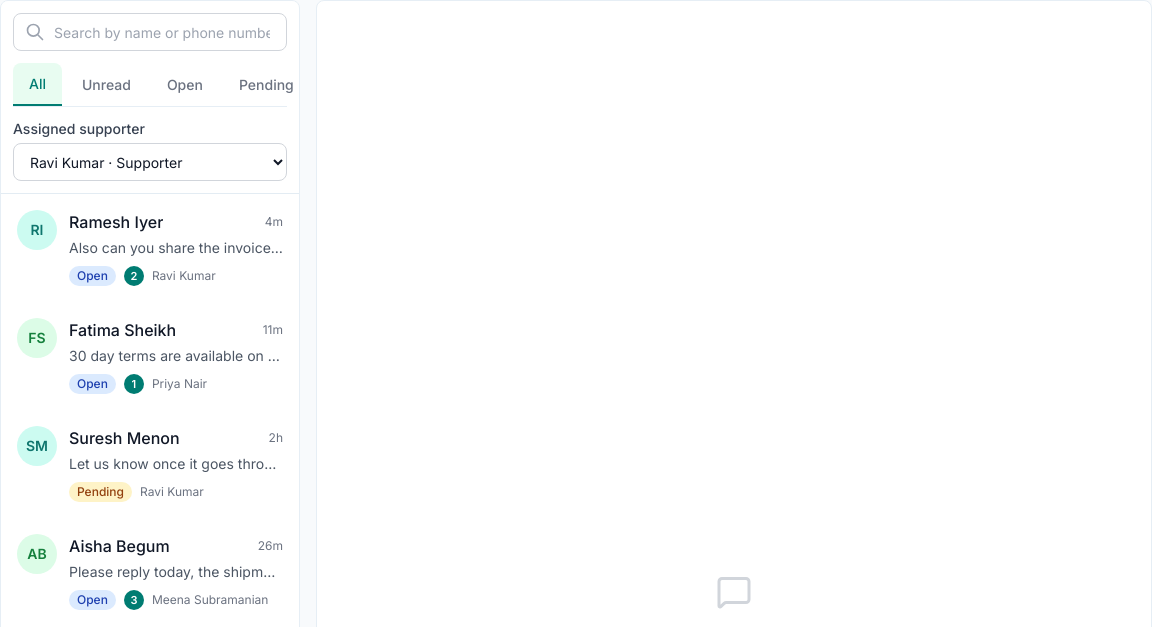
Scenario: ChatWorkspace › filters the list by customer name
Step 1. Type "Fatima" into the field with placeholder "Search by name or phone number..." → [150, 32], box [13,13,287,51]
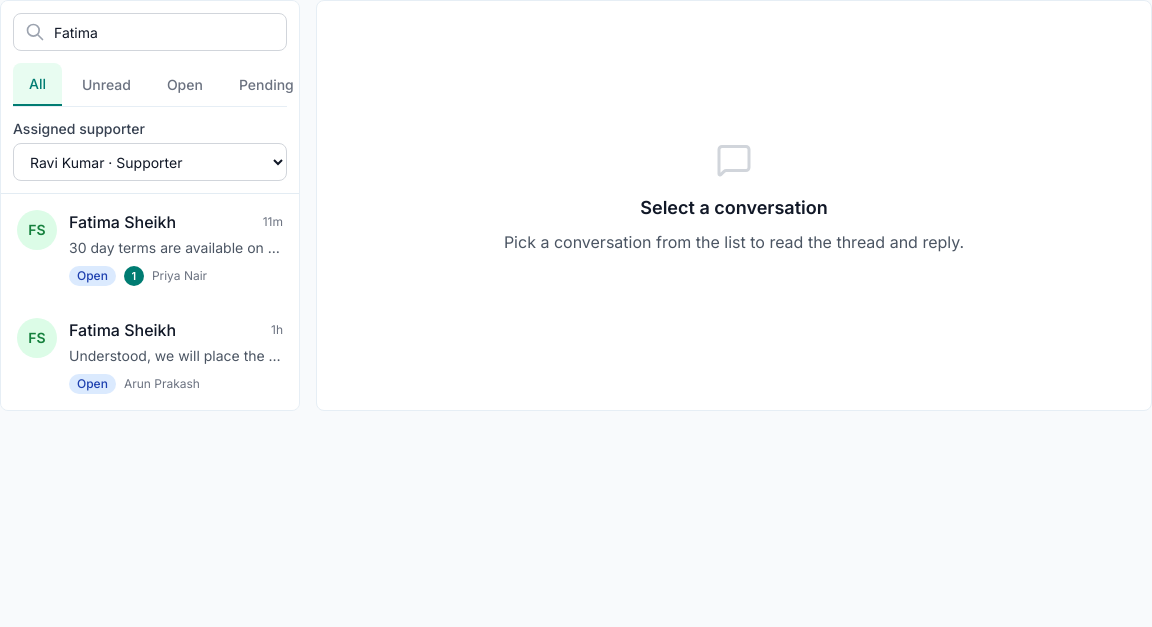
Expected: the 1st text "Fatima Sheikh" is shown, [69,210,176,234]
Expected: no buttons "Ramesh Iyer" are shown
